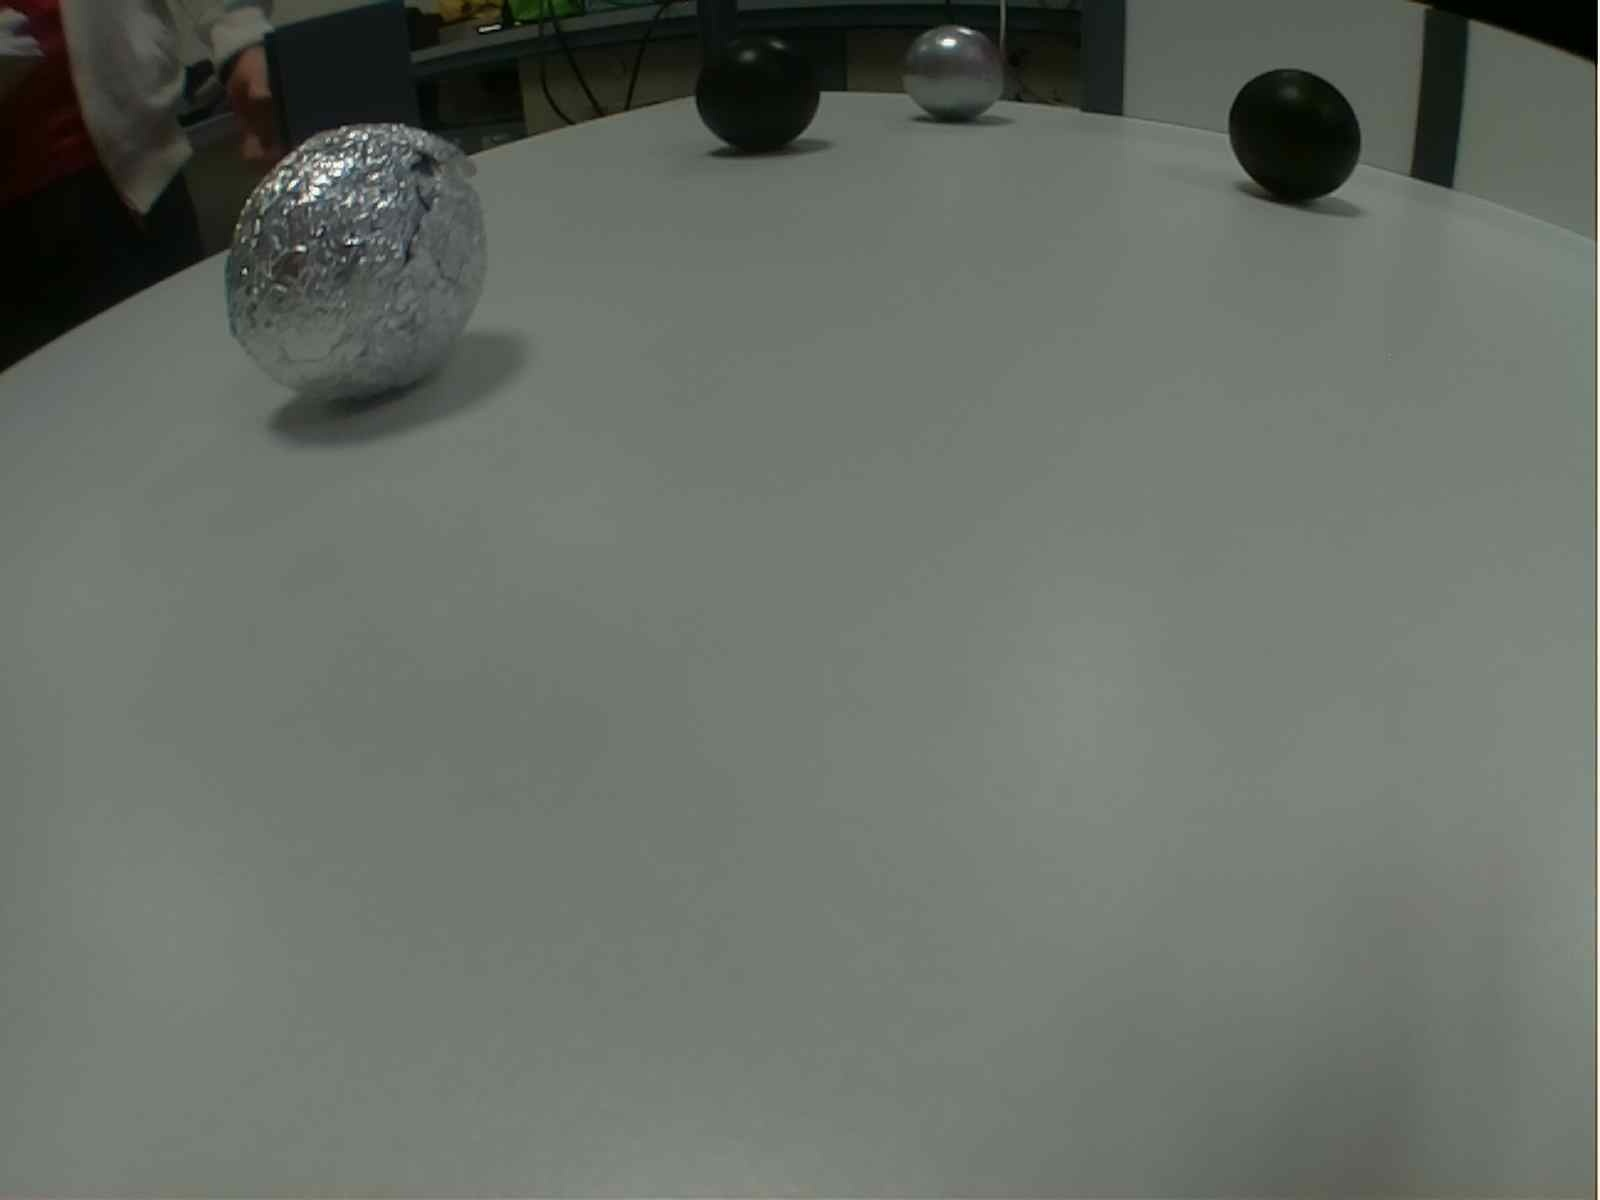bianca: (215, 118, 490, 408), (894, 21, 1009, 129)
nera: (1222, 66, 1367, 207), (690, 26, 828, 158)
